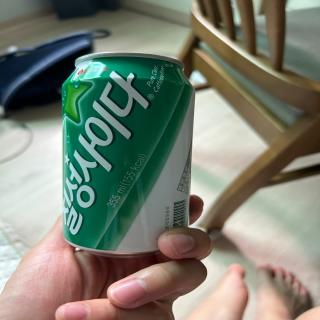chilsung: (58, 50, 201, 257)
